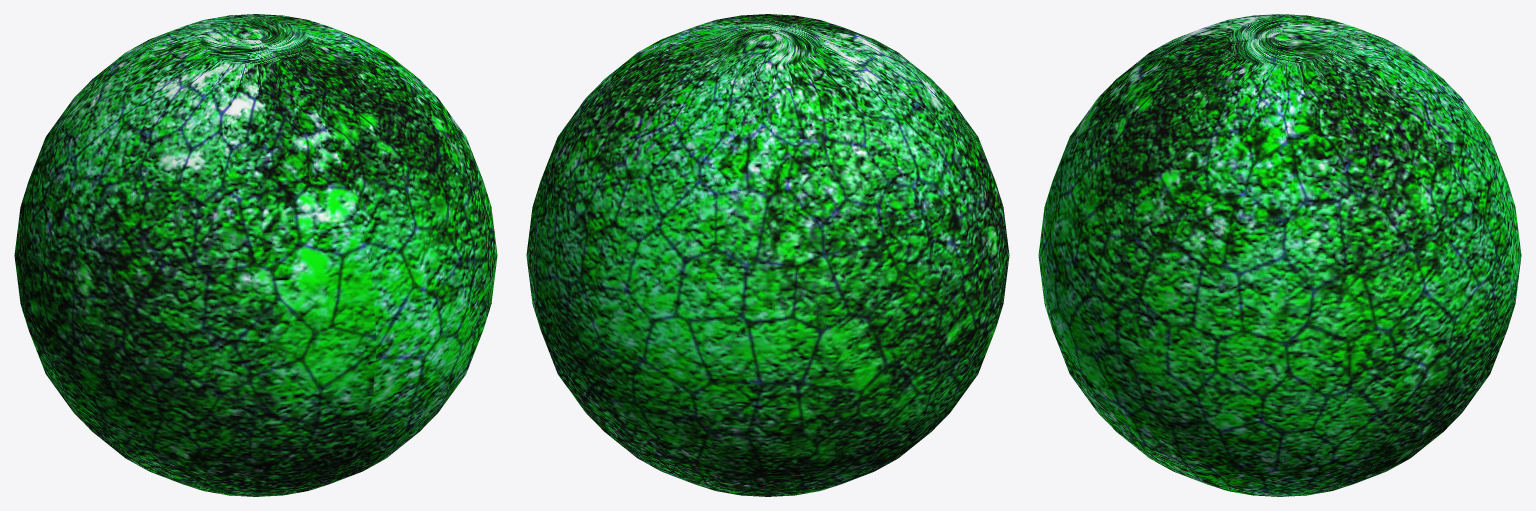
File: ZolonShieldA2.fbx
3 views of the same model, side by side, from view 1: azimuth 30°, elevation 25°; view 2: azimuth 150°, elevation 25°; view 3: azimuth 270°, elevation 25° (orthographic).
Parts seen in each view (by area): view 1: ZolonShieldA2; view 2: ZolonShieldA2; view 3: ZolonShieldA2.
Boxes of the visible parts, x1,y1,x2,y2 form: ZolonShieldA2: [14, 14, 497, 496]; ZolonShieldA2: [526, 14, 1009, 496]; ZolonShieldA2: [1038, 14, 1521, 496].
Bounding box in the file's own units: 1800 × 1800 × 1800.
